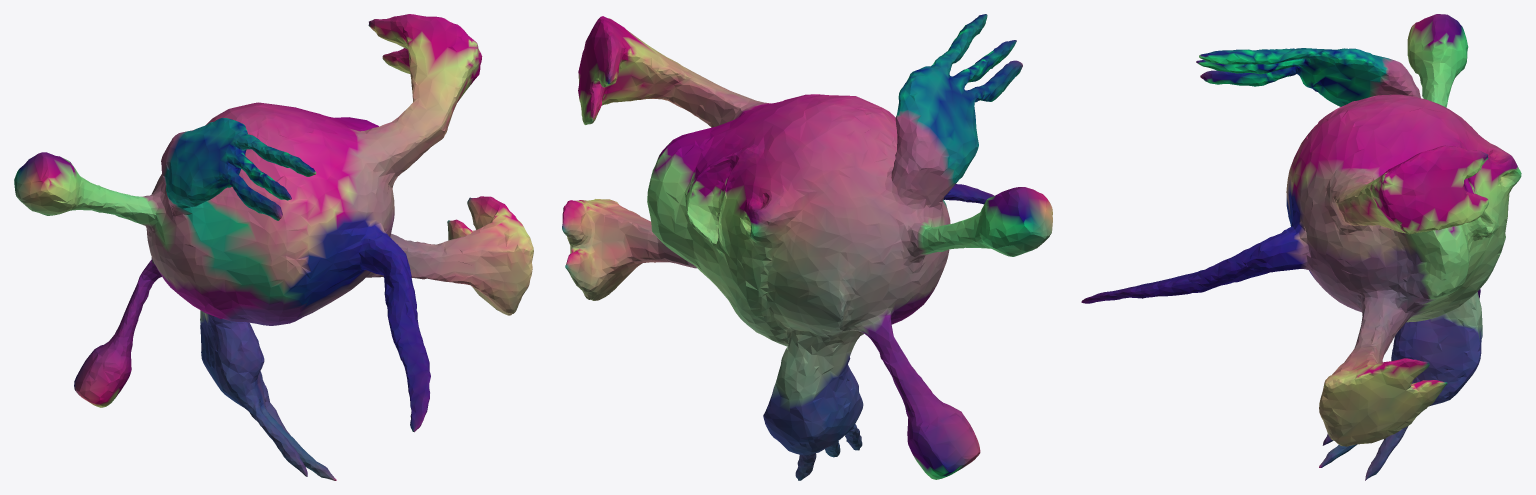
Rendered from alien-18.off.obj.
The picture shows the model from 3 angles, left to right: view 1: azimuth 30°, elevation 25°; view 2: azimuth 150°, elevation 25°; view 3: azimuth 270°, elevation 25°; orthographic projection. The views are drawn at different scales.
Bounding box in the file's own units: 1.4 × 1.15 × 1.14.
